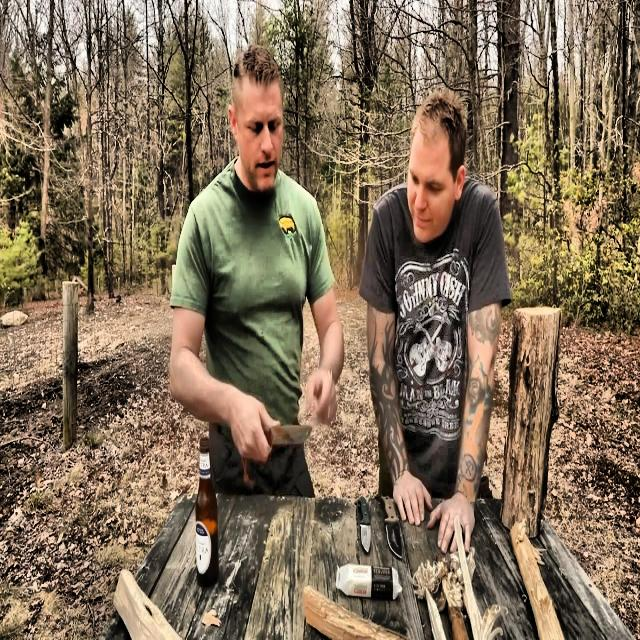knife: (381, 496, 403, 562), (264, 426, 314, 450), (358, 496, 372, 553)
